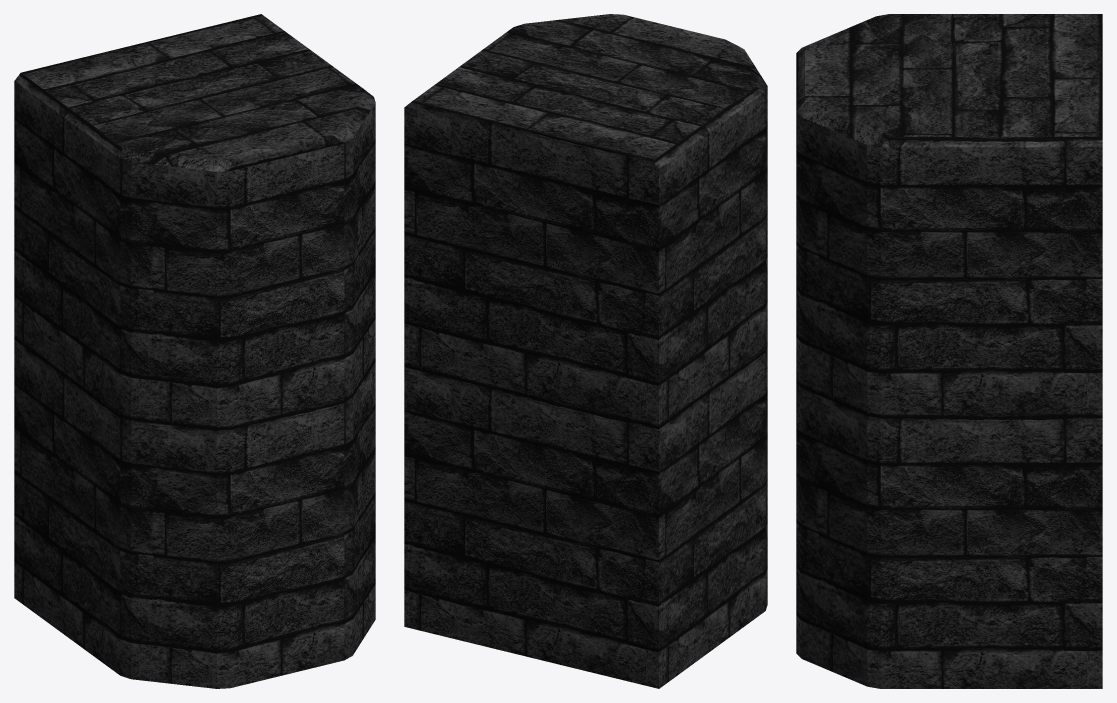
The model's file is Castle Pilar (Tall).FBX.
The picture shows the model from 3 angles, left to right: view 1: azimuth 30°, elevation 25°; view 2: azimuth 150°, elevation 25°; view 3: azimuth 270°, elevation 25°; orthographic projection. The views are drawn at different scales.
Parts seen in each view (by area): view 1: Block001; view 2: Block001; view 3: Block001.
Part boxes in pixels (bbox=[...]): Block001: bbox=[14, 14, 375, 688]; Block001: bbox=[404, 14, 767, 688]; Block001: bbox=[796, 14, 1102, 688].
Bounding box in the file's own units: 39.37 × 77.74 × 39.37.
Materials: 1 (1 with a texture image).
